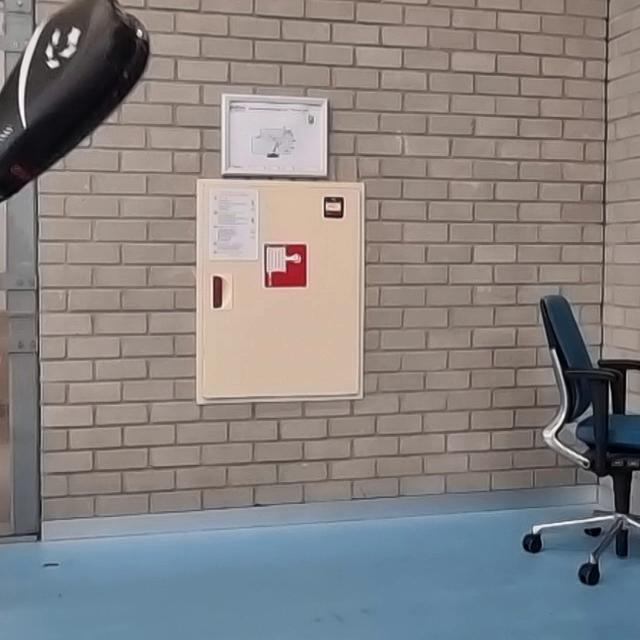paddle: (0, 0, 152, 221)
